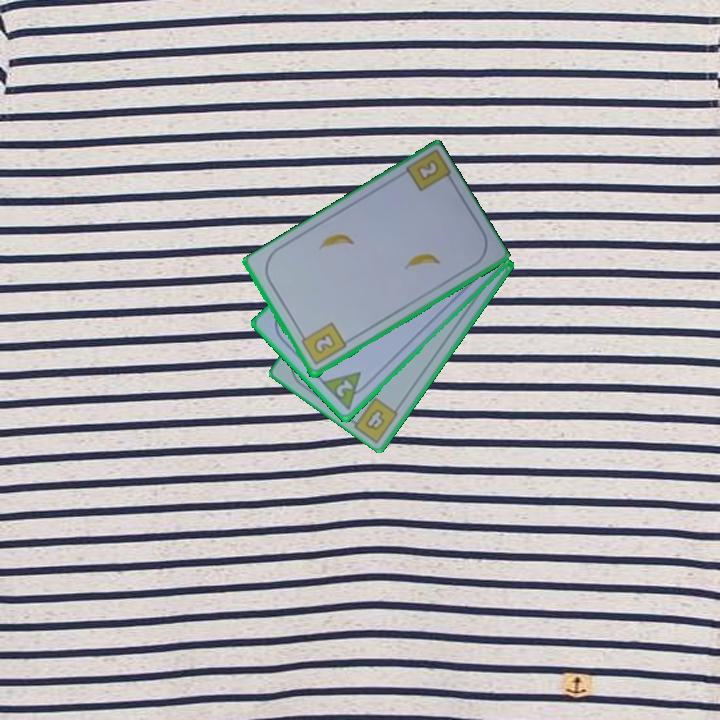2b: (296, 319, 349, 369), (413, 156, 442, 184)
2p: (318, 368, 373, 414)
4b: (361, 405, 388, 434)
